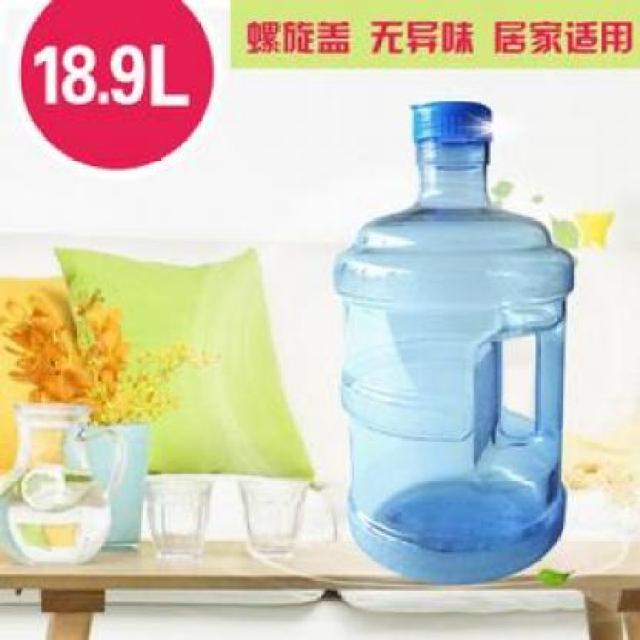coolerbottle: (328, 94, 580, 587)
